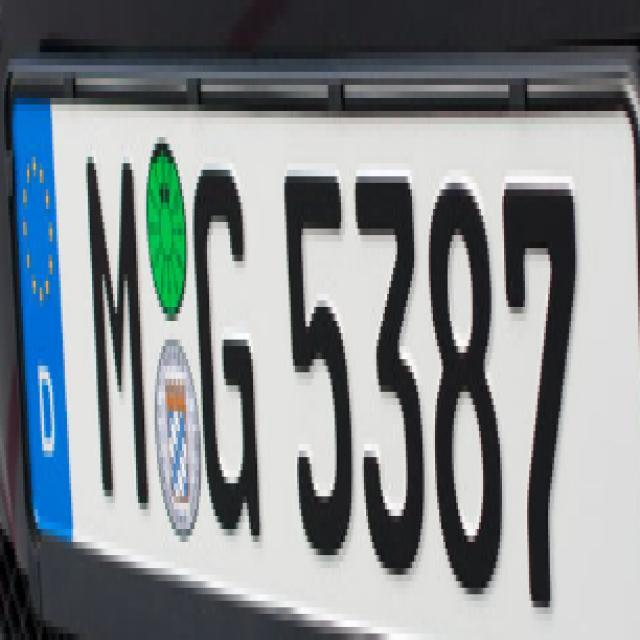3: (353, 129, 427, 587)
5: (271, 134, 361, 579)
7: (496, 124, 587, 628)
8: (423, 143, 511, 612)
G: (190, 139, 269, 552)
M: (83, 139, 153, 517)
